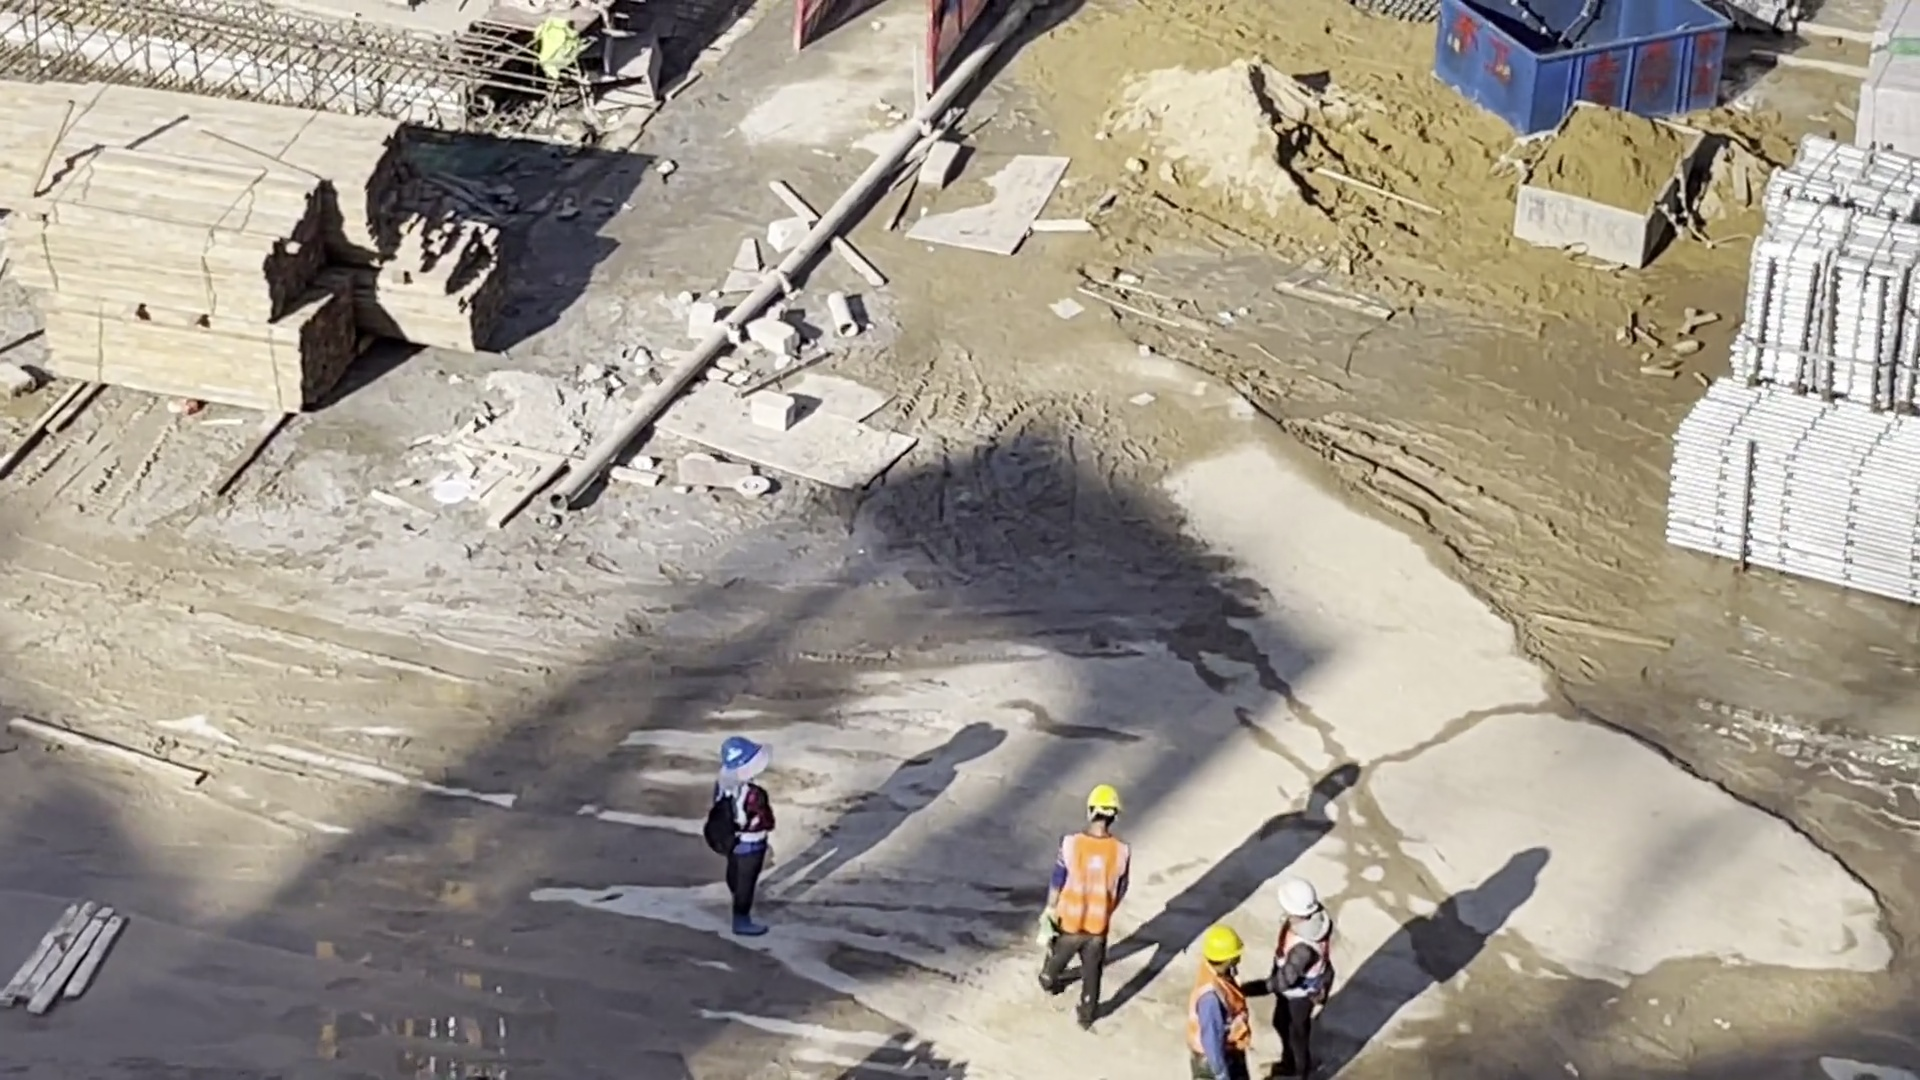helmet: (1204, 929, 1246, 964), (1278, 884, 1321, 918), (1088, 781, 1123, 816), (717, 738, 761, 768)
hopper: (1435, 1, 1732, 141), (1513, 101, 1706, 268)
person: (1040, 787, 1127, 1034), (1252, 885, 1334, 1080), (711, 738, 771, 935), (1185, 930, 1252, 1080)
scaffold: (1673, 380, 1920, 602), (1744, 145, 1920, 404)
vest: (1054, 837, 1123, 939), (1181, 977, 1244, 1043), (729, 780, 765, 853)
wood: (27, 165, 342, 411), (1, 88, 392, 242)
